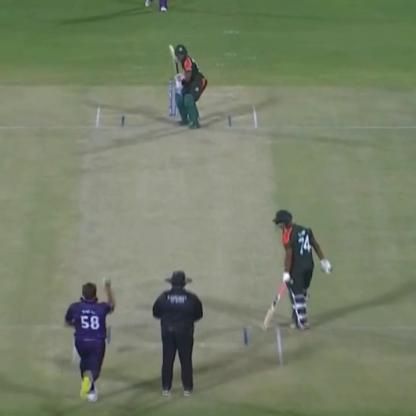ball: (97, 275, 116, 292)
bat: (261, 271, 289, 339), (157, 34, 185, 78)
pitch: (59, 84, 288, 381)
